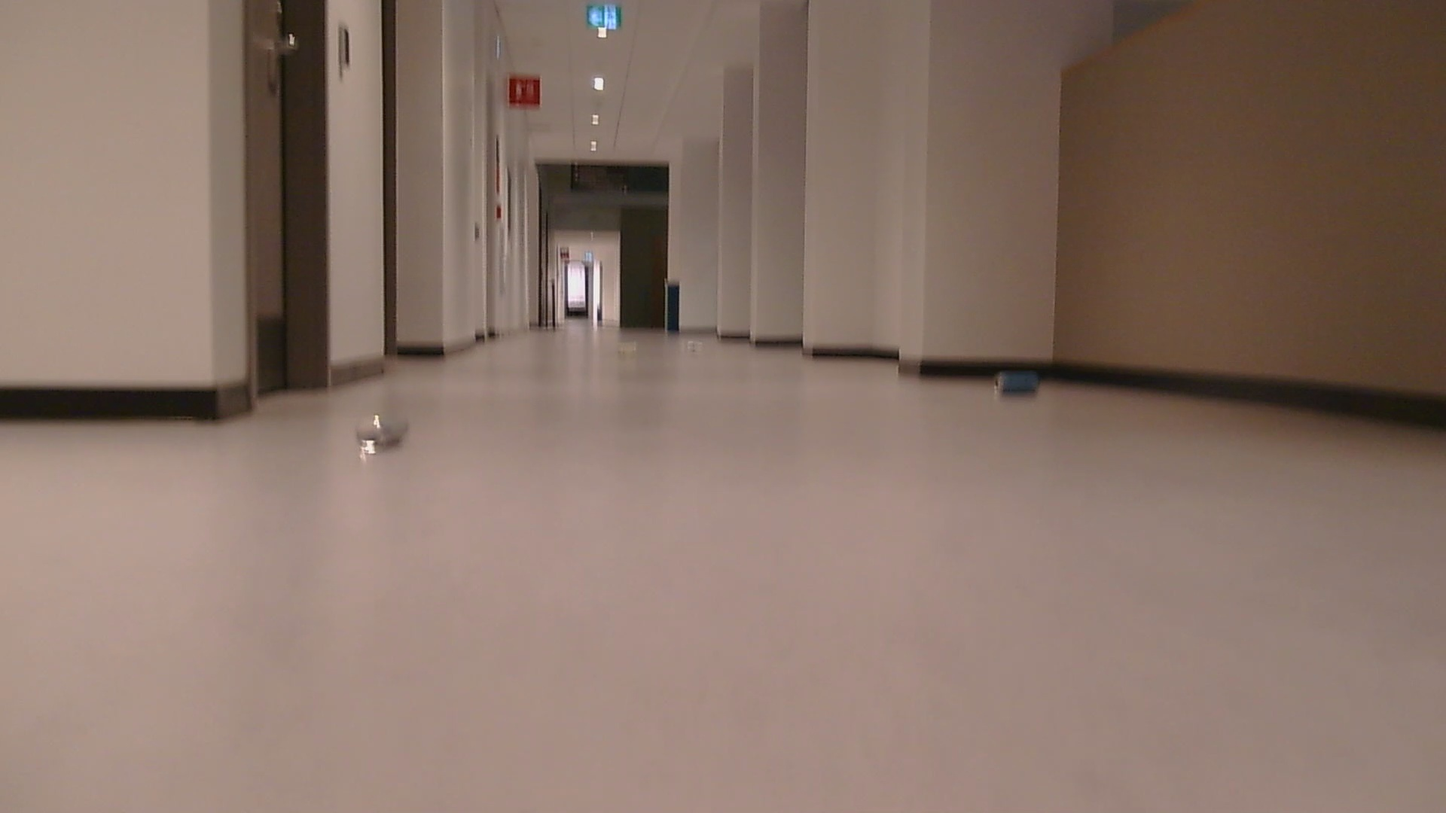carton: (334, 406, 444, 465), (990, 366, 1049, 400)
